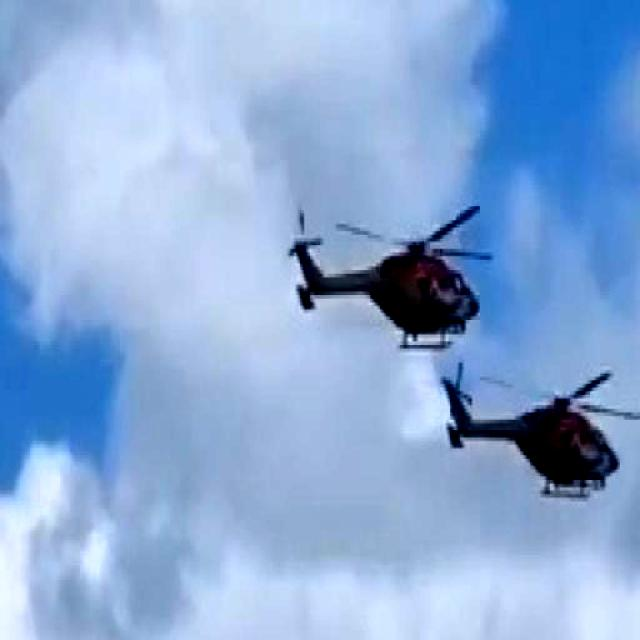drone: (278, 172, 496, 369), (426, 360, 640, 538)
